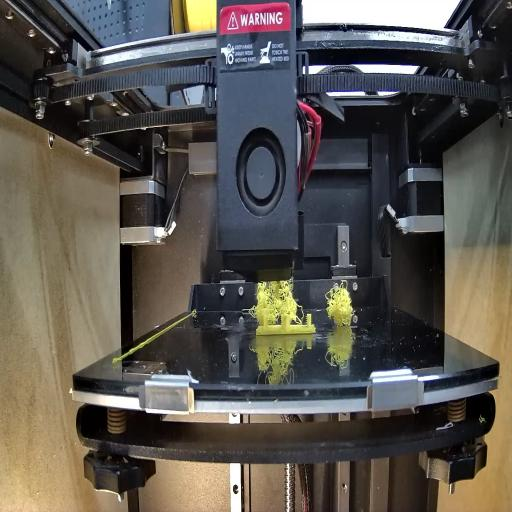spaghetti: (255, 274, 303, 322), (327, 277, 357, 328)
